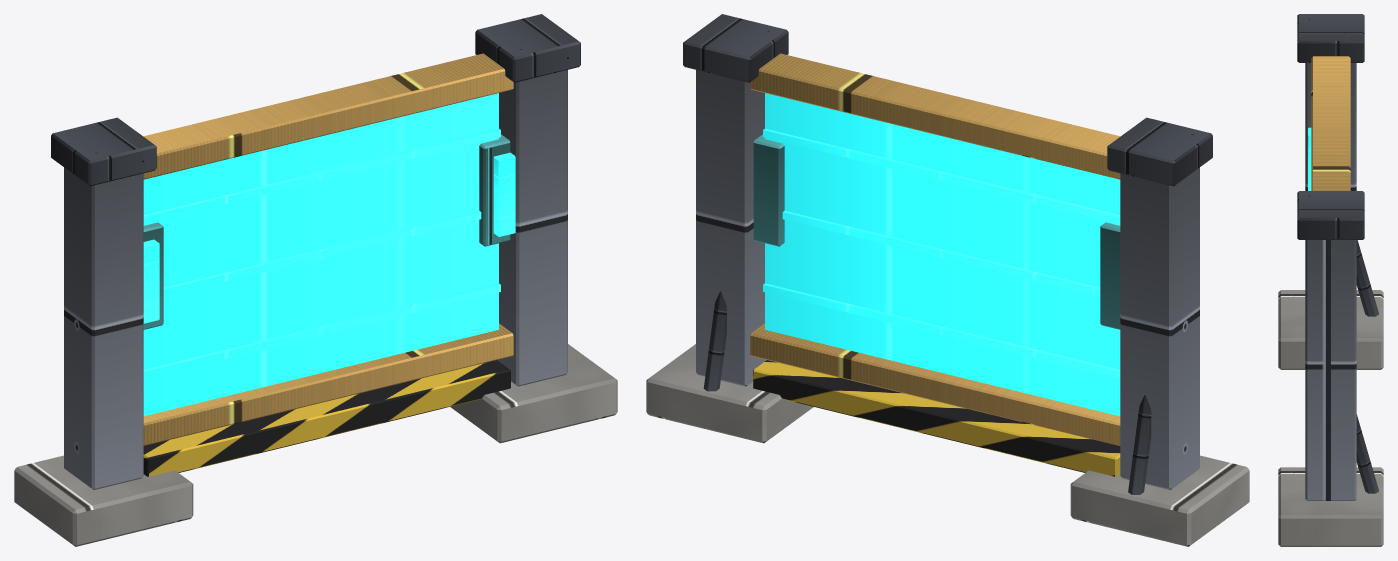
File: BLD_EnergyWall_A_v1.fbx
The picture shows the model from 3 angles, left to right: view 1: azimuth 30°, elevation 25°; view 2: azimuth 150°, elevation 25°; view 3: azimuth 270°, elevation 25°; orthographic projection. The views are drawn at different scales.
Parts seen in each view (by area): view 1: GEO_EnergyWall_A; view 2: GEO_EnergyWall_A; view 3: GEO_EnergyWall_A.
Boxes of the visible parts, x1,y1,x2,y2 form: GEO_EnergyWall_A: [14, 14, 617, 546]; GEO_EnergyWall_A: [646, 14, 1249, 546]; GEO_EnergyWall_A: [1278, 14, 1383, 546].
Size of the model in its own units: 398 by 260 by 78.
